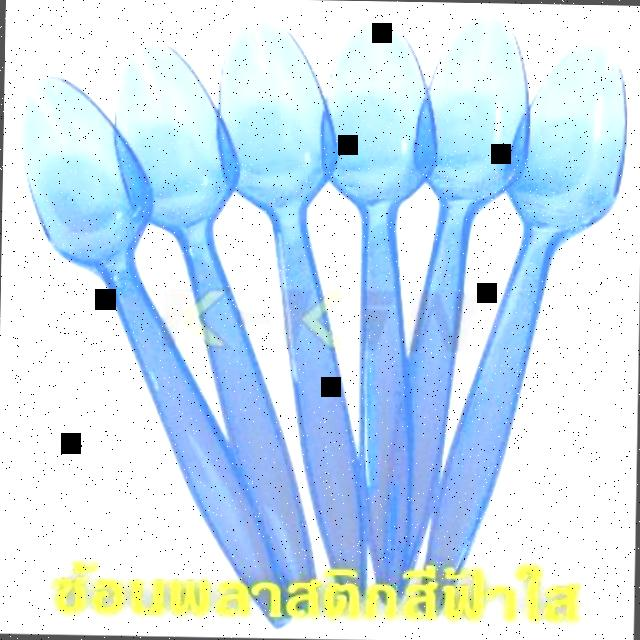plastic_spoon: (12, 6, 636, 628)
